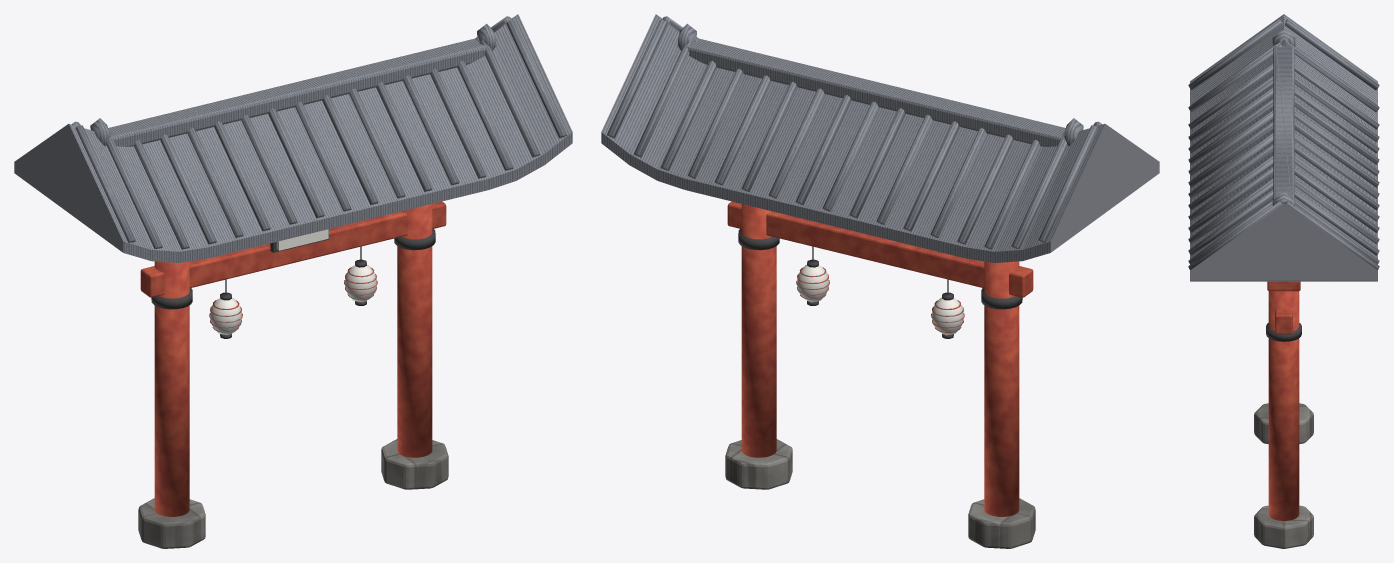
Rendered from stage_gate_overdare.fbx.
3 views of the same model, side by side, from view 1: azimuth 30°, elevation 25°; view 2: azimuth 150°, elevation 25°; view 3: azimuth 270°, elevation 25° (orthographic). The views are drawn at different scales.
Visible parts, largest first — view 1: stage_gate; view 2: stage_gate; view 3: stage_gate.
Part boxes in pixels (bbox=[...]): stage_gate: bbox=[14, 14, 572, 548]; stage_gate: bbox=[601, 14, 1159, 548]; stage_gate: bbox=[1188, 14, 1379, 548].
Size of the model in its own units: 500 by 465 by 214.
Materials: 1 (1 with a texture image).
